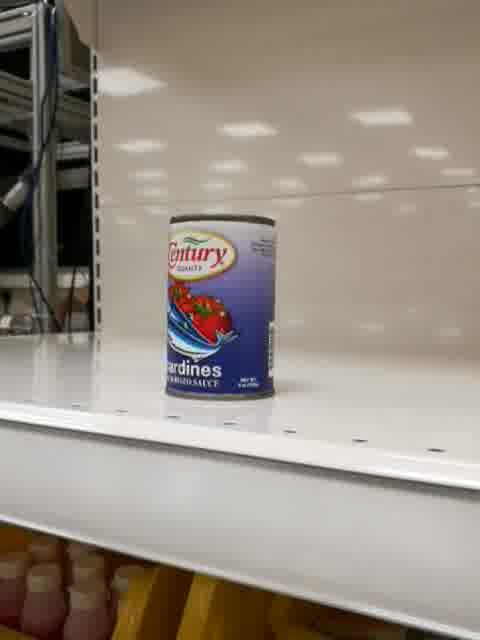sardine: (163, 213, 279, 402)
